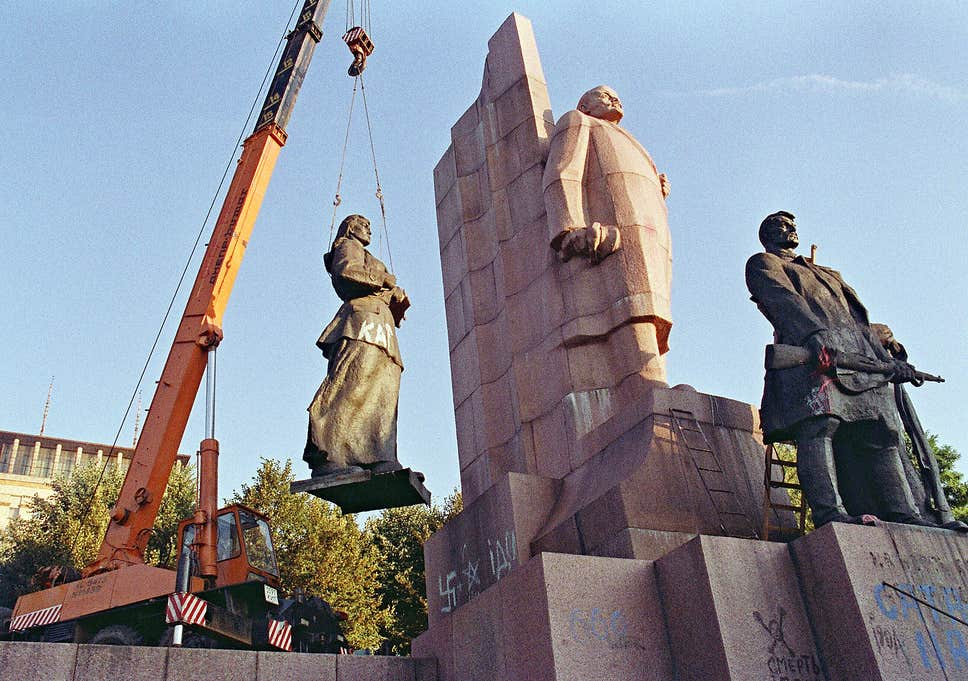person-like: (740, 206, 934, 532), (536, 80, 703, 398), (298, 209, 413, 475)
